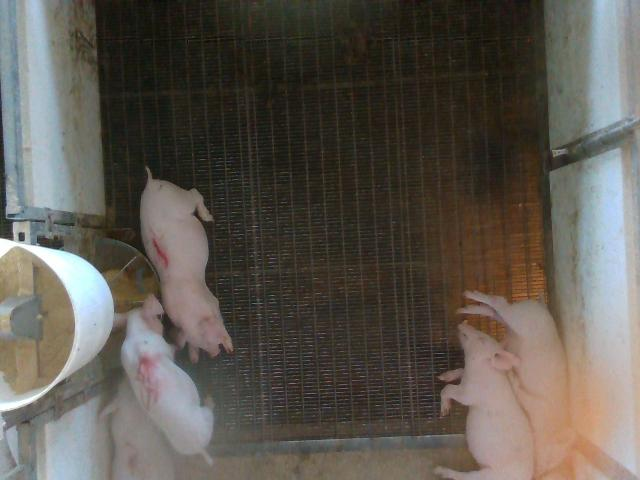pig-1: (140, 168, 232, 362)
pig-3: (101, 376, 174, 478)
pig-5: (115, 295, 212, 463)
